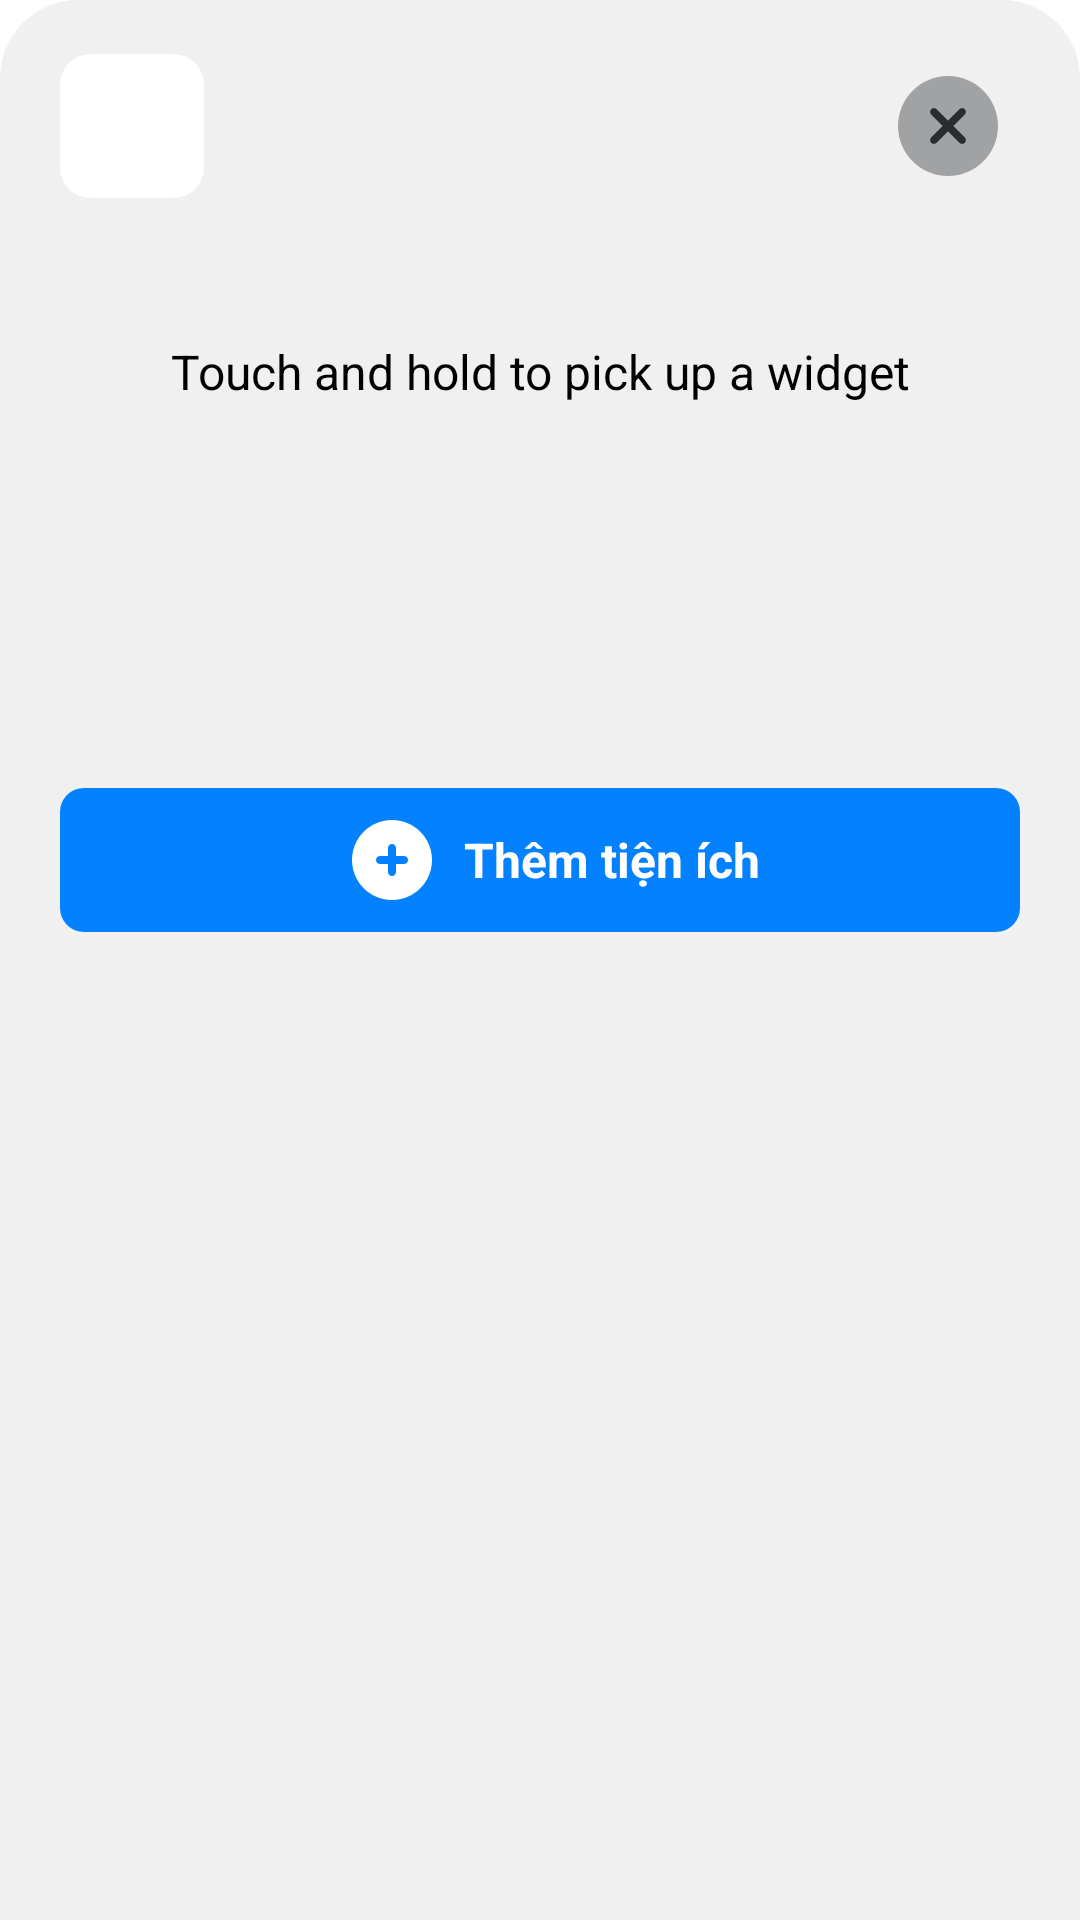

Locate icon controls on the screen. Image size 1080 × 1920, boxes as bbox=(x1, y1, x2, y2).
add: bbox=(352, 820, 432, 900)
close: bbox=(898, 76, 998, 176)
